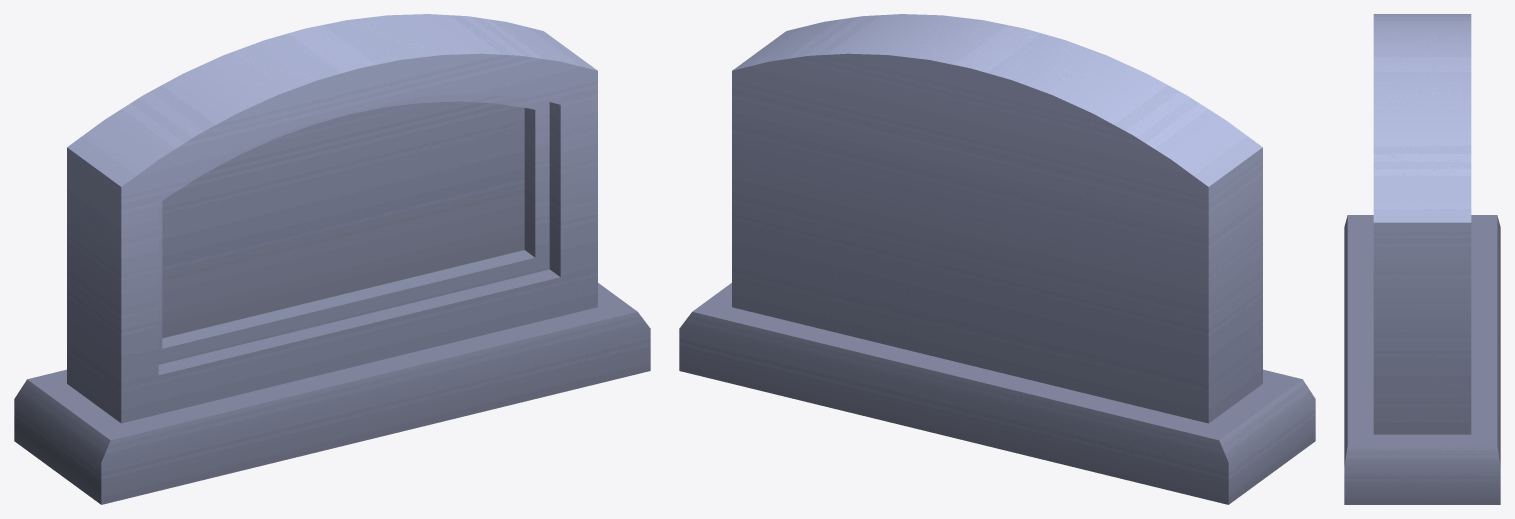
Rendered from gravestone-wide.glb.
3 renders of one model, left to right at view 1: azimuth 30°, elevation 25°; view 2: azimuth 150°, elevation 25°; view 3: azimuth 270°, elevation 25°, orthographic. The views are drawn at different scales.
Parts seen in each view (by area): view 1: gravestone-wide; view 2: gravestone-wide; view 3: gravestone-wide.
Boxes of the visible parts, left/top/right/bottom form: gravestone-wide: left=14, top=14, right=650, bottom=504; gravestone-wide: left=679, top=14, right=1315, bottom=504; gravestone-wide: left=1344, top=14, right=1500, bottom=504.
Bounding box in the file's own units: 2.36 × 1.47 × 0.6474.
Materials: 1 (1 with a texture image).
